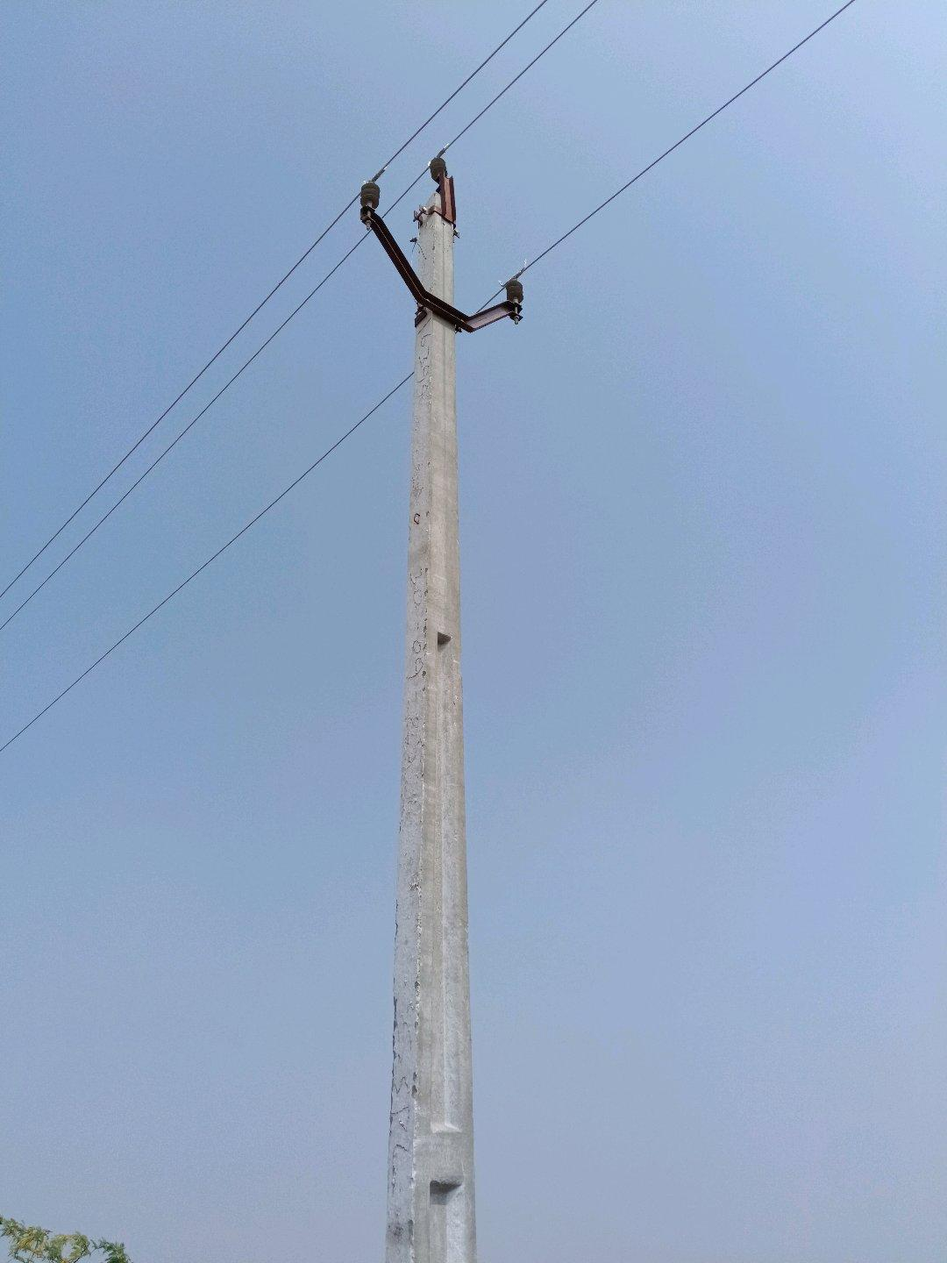{"0" "insulator", "1" "pole", "2" "crossarm", "3" "conductor", "4" "street_: (357, 155, 523, 1262), (553, 238, 566, 247), (584, 218, 591, 223), (576, 224, 580, 230), (599, 207, 602, 210)
